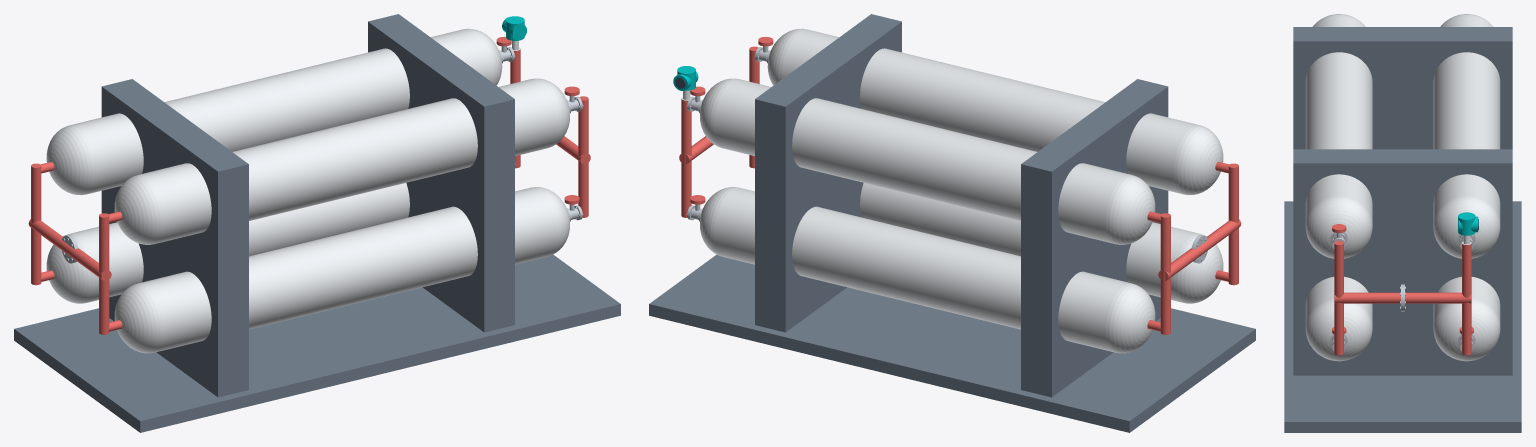
File: ST-800_HP_Buffer_Storage.glb
3 renders of one model, left to right at view 1: azimuth 30°, elevation 25°; view 2: azimuth 150°, elevation 25°; view 3: azimuth 270°, elevation 25°, orthographic. The views are drawn at different scales.
Visible parts, largest first — view 1: ST-800_002__ST800_Cradle_Saddle_Support__STRUCTURAL_SLATE_IS, ST-800_001__ST800_Skid_Foundation_Frame__STRUCTURAL_SLATE_IS, ST-800_057__Vessel_801D_350Bar_Forged_SA723_Shell__SS316L_PO, ST-800_021__Vessel_801B_350Bar_Forged_SA723_Shell__SS316L_PO, ST-800_039__Vessel_801C_350Bar_Forged_SA723_Shell__SS316L_PO, ST-800_003__Vessel_801A_350Bar_Forged_SA723_Shell__SS316L_PO, ST-800_023__Vessel_801B_350Bar_West_Hemi_Head__SS316L_POLISH, ST-800_041__Vessel_801C_350Bar_West_Hemi_Head__SS316L_POLISH, ST-800_059__Vessel_801D_350Bar_West_Hemi_Head__SS316L_POLISH, ST-800_075__ST800_West_Vertical_Manifold__SAFETY_RED_VALVE, ST-800_005__Vessel_801A_350Bar_West_Hemi_Head__SS316L_POLISH, ST-800_086__ST800_East_Vertical_Manifold__SAFETY_RED_VALVE (+4 smaller); view 2: ST-800_002__ST800_Cradle_Saddle_Support__STRUCTURAL_SLATE_IS, ST-800_001__ST800_Skid_Foundation_Frame__STRUCTURAL_SLATE_IS, ST-800_039__Vessel_801C_350Bar_Forged_SA723_Shell__SS316L_PO, ST-800_003__Vessel_801A_350Bar_Forged_SA723_Shell__SS316L_PO, ST-800_057__Vessel_801D_350Bar_Forged_SA723_Shell__SS316L_PO, ST-800_021__Vessel_801B_350Bar_Forged_SA723_Shell__SS316L_PO, ST-800_005__Vessel_801A_350Bar_West_Hemi_Head__SS316L_POLISH, ST-800_059__Vessel_801D_350Bar_West_Hemi_Head__SS316L_POLISH, ST-800_041__Vessel_801C_350Bar_West_Hemi_Head__SS316L_POLISH, ST-800_075__ST800_West_Vertical_Manifold__SAFETY_RED_VALVE, ST-800_023__Vessel_801B_350Bar_West_Hemi_Head__SS316L_POLISH, ST-800_086__ST800_East_Vertical_Manifold__SAFETY_RED_VALVE (+4 smaller); view 3: ST-800_002__ST800_Cradle_Saddle_Support__STRUCTURAL_SLATE_IS, ST-800_001__ST800_Skid_Foundation_Frame__STRUCTURAL_SLATE_IS, ST-800_039__Vessel_801C_350Bar_Forged_SA723_Shell__SS316L_PO, ST-800_057__Vessel_801D_350Bar_Forged_SA723_Shell__SS316L_PO, ST-800_058__Vessel_801D_350Bar_East_Hemi_Head__SS316L_POLISH, ST-800_004__Vessel_801A_350Bar_East_Hemi_Head__SS316L_POLISH, ST-800_022__Vessel_801B_350Bar_East_Hemi_Head__SS316L_POLISH, ST-800_040__Vessel_801C_350Bar_East_Hemi_Head__SS316L_POLISH, ST-800_086__ST800_East_Vertical_Manifold__SAFETY_RED_VALVE, ST-800_088__ST800_East_Cross_Header__SAFETY_RED_VALVE, ST-800_003__Vessel_801A_350Bar_Forged_SA723_Shell__SS316L_PO, ST-800_021__Vessel_801B_350Bar_Forged_SA723_Shell__SS316L_PO (+1 smaller).
Part boxes in pixels (bbox=[...]): ST-800_002__ST800_Cradle_Saddle_Support__STRUCTURAL_SLATE_IS: bbox=[101, 14, 514, 397]; ST-800_001__ST800_Skid_Foundation_Frame__STRUCTURAL_SLATE_IS: bbox=[14, 254, 620, 432]; ST-800_057__Vessel_801D_350Bar_Forged_SA723_Shell__SS316L_PO: bbox=[140, 79, 556, 243]; ST-800_021__Vessel_801B_350Bar_Forged_SA723_Shell__SS316L_PO: bbox=[139, 187, 556, 352]; ST-800_039__Vessel_801C_350Bar_Forged_SA723_Shell__SS316L_PO: bbox=[72, 29, 488, 193]; ST-800_003__Vessel_801A_350Bar_Forged_SA723_Shell__SS316L_PO: bbox=[71, 183, 409, 302]; ST-800_023__Vessel_801B_350Bar_West_Hemi_Head__SS316L_POLISH: bbox=[114, 283, 163, 353]; ST-800_041__Vessel_801C_350Bar_West_Hemi_Head__SS316L_POLISH: bbox=[46, 125, 95, 195]; ST-800_059__Vessel_801D_350Bar_West_Hemi_Head__SS316L_POLISH: bbox=[114, 174, 163, 244]; ST-800_075__ST800_West_Vertical_Manifold__SAFETY_RED_VALVE: bbox=[31, 163, 111, 334]; ST-800_005__Vessel_801A_350Bar_West_Hemi_Head__SS316L_POLISH: bbox=[46, 233, 95, 303]; ST-800_086__ST800_East_Vertical_Manifold__SAFETY_RED_VALVE: bbox=[510, 49, 590, 217]; ST-800_002__ST800_Cradle_Saddle_Support__STRUCTURAL_SLATE_IS: bbox=[755, 14, 1168, 397]; ST-800_001__ST800_Skid_Foundation_Frame__STRUCTURAL_SLATE_IS: bbox=[649, 254, 1255, 432]; ST-800_039__Vessel_801C_350Bar_Forged_SA723_Shell__SS316L_PO: bbox=[713, 79, 1129, 243]; ST-800_003__Vessel_801A_350Bar_Forged_SA723_Shell__SS316L_PO: bbox=[713, 187, 1130, 352]; ST-800_057__Vessel_801D_350Bar_Forged_SA723_Shell__SS316L_PO: bbox=[781, 29, 1197, 193]; ST-800_021__Vessel_801B_350Bar_Forged_SA723_Shell__SS316L_PO: bbox=[860, 183, 1198, 302]; ST-800_005__Vessel_801A_350Bar_West_Hemi_Head__SS316L_POLISH: bbox=[1106, 283, 1155, 353]; ST-800_059__Vessel_801D_350Bar_West_Hemi_Head__SS316L_POLISH: bbox=[1174, 125, 1223, 195]; ST-800_041__Vessel_801C_350Bar_West_Hemi_Head__SS316L_POLISH: bbox=[1106, 174, 1155, 244]; ST-800_075__ST800_West_Vertical_Manifold__SAFETY_RED_VALVE: bbox=[1158, 163, 1238, 334]; ST-800_023__Vessel_801B_350Bar_West_Hemi_Head__SS316L_POLISH: bbox=[1174, 233, 1223, 303]; ST-800_086__ST800_East_Vertical_Manifold__SAFETY_RED_VALVE: bbox=[679, 46, 759, 217]; ST-800_002__ST800_Cradle_Saddle_Support__STRUCTURAL_SLATE_IS: bbox=[1293, 27, 1512, 375]; ST-800_001__ST800_Skid_Foundation_Frame__STRUCTURAL_SLATE_IS: bbox=[1284, 201, 1521, 432]; ST-800_039__Vessel_801C_350Bar_Forged_SA723_Shell__SS316L_PO: bbox=[1433, 16, 1500, 224]; ST-800_057__Vessel_801D_350Bar_Forged_SA723_Shell__SS316L_PO: bbox=[1305, 16, 1372, 224]; ST-800_058__Vessel_801D_350Bar_East_Hemi_Head__SS316L_POLISH: bbox=[1305, 196, 1372, 258]; ST-800_004__Vessel_801A_350Bar_East_Hemi_Head__SS316L_POLISH: bbox=[1433, 298, 1500, 361]; ST-800_022__Vessel_801B_350Bar_East_Hemi_Head__SS316L_POLISH: bbox=[1305, 298, 1372, 361]; ST-800_040__Vessel_801C_350Bar_East_Hemi_Head__SS316L_POLISH: bbox=[1433, 196, 1500, 258]; ST-800_086__ST800_East_Vertical_Manifold__SAFETY_RED_VALVE: bbox=[1334, 241, 1471, 355]; ST-800_088__ST800_East_Cross_Header__SAFETY_RED_VALVE: bbox=[1334, 292, 1471, 303]; ST-800_003__Vessel_801A_350Bar_Forged_SA723_Shell__SS316L_PO: bbox=[1433, 276, 1500, 326]; ST-800_021__Vessel_801B_350Bar_Forged_SA723_Shell__SS316L_PO: bbox=[1305, 276, 1372, 326].
Bounding box in the file's own units: 3.55 × 1.62 × 1.56.
